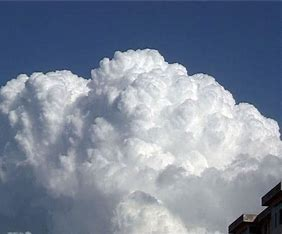Cumulus: (5, 32, 277, 230)
